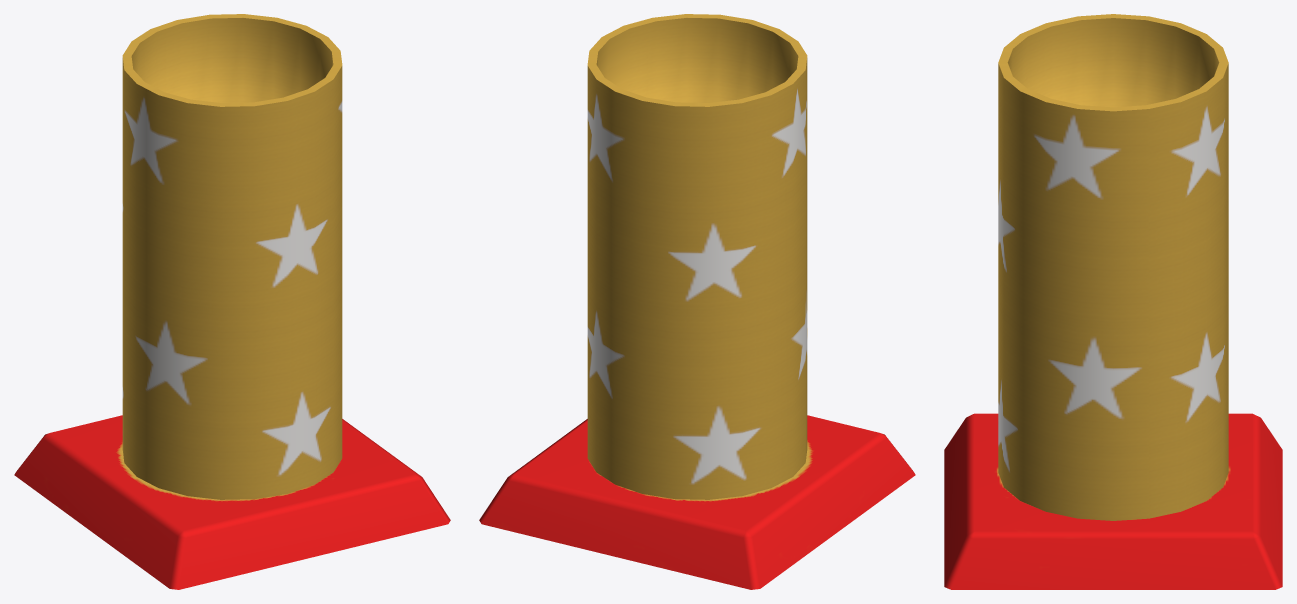
Rendered from SM_Hanabi_01.fbx.
The picture shows the model from 3 angles, left to right: view 1: azimuth 30°, elevation 25°; view 2: azimuth 150°, elevation 25°; view 3: azimuth 270°, elevation 25°; orthographic projection. The views are drawn at different scales.
Visible parts, largest first — view 1: SM_Hanabi_01; view 2: SM_Hanabi_01; view 3: SM_Hanabi_01.
Part boxes in pixels (box(x1,y1,x2,y2)): SM_Hanabi_01: box(14, 14, 450, 589); SM_Hanabi_01: box(479, 14, 915, 589); SM_Hanabi_01: box(944, 14, 1282, 589).
Bounding box in the file's own units: 33.73 × 33.73 × 50.12.
1 material, 1 textured.
